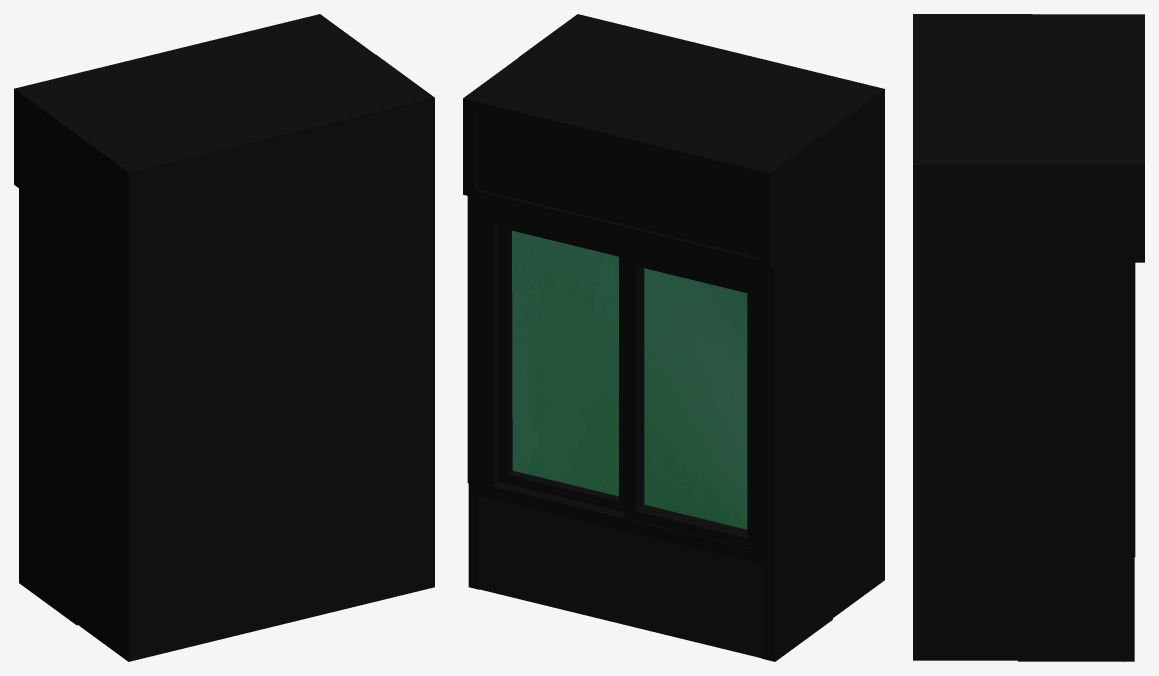
File: sci-fi_fridge.glb
3 renders of one model, left to right at view 1: azimuth 30°, elevation 25°; view 2: azimuth 150°, elevation 25°; view 3: azimuth 270°, elevation 25°, orthographic.
Visible parts, largest first — view 1: polySurface10_black_0_black_0_33, polySurface12_black_0_black_0_39; view 2: polySurface10_black_0_black_0_33, Box005_02 - Default_0_02_-_Default_0_02_-_Default 1_0_02_-_D, polySurface12_black_0_black_0_39, polySurface11_white_0_white_0_36; view 3: polySurface10_black_0_black_0_33, polySurface12_black_0_black_0_39.
Boxes of the visible parts, bbox=[...] form: polySurface10_black_0_black_0_33: bbox=[19, 54, 434, 661]; polySurface12_black_0_black_0_39: bbox=[14, 14, 374, 220]; polySurface10_black_0_black_0_33: bbox=[467, 14, 884, 661]; Box005_02 - Default_0_02_-_Default_0_02_-_Default 1_0_02_-_D: bbox=[512, 230, 747, 529]; polySurface12_black_0_black_0_39: bbox=[463, 57, 825, 269]; polySurface11_white_0_white_0_36: bbox=[477, 109, 757, 257]; polySurface10_black_0_black_0_33: bbox=[913, 14, 1135, 661]; polySurface12_black_0_black_0_39: bbox=[1032, 14, 1144, 262].
Size of the model in its own units: 6.13 by 9.43 by 3.97.
Materials: 4 (4 with a texture image).
